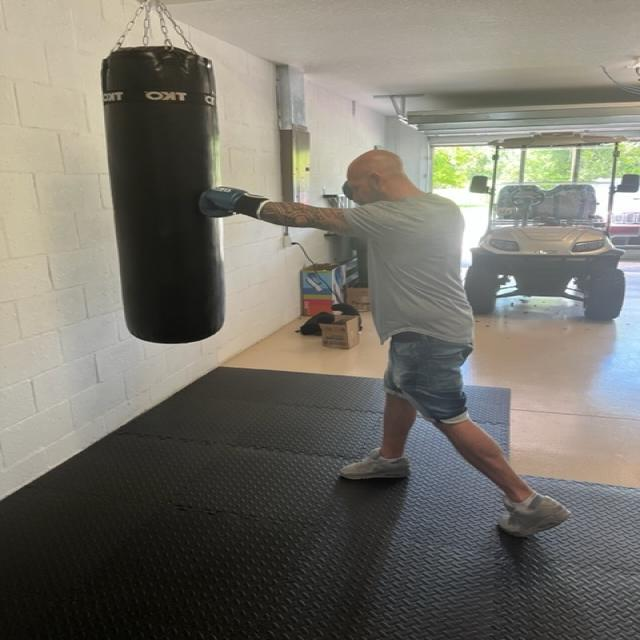cross: (174, 130, 446, 256)
